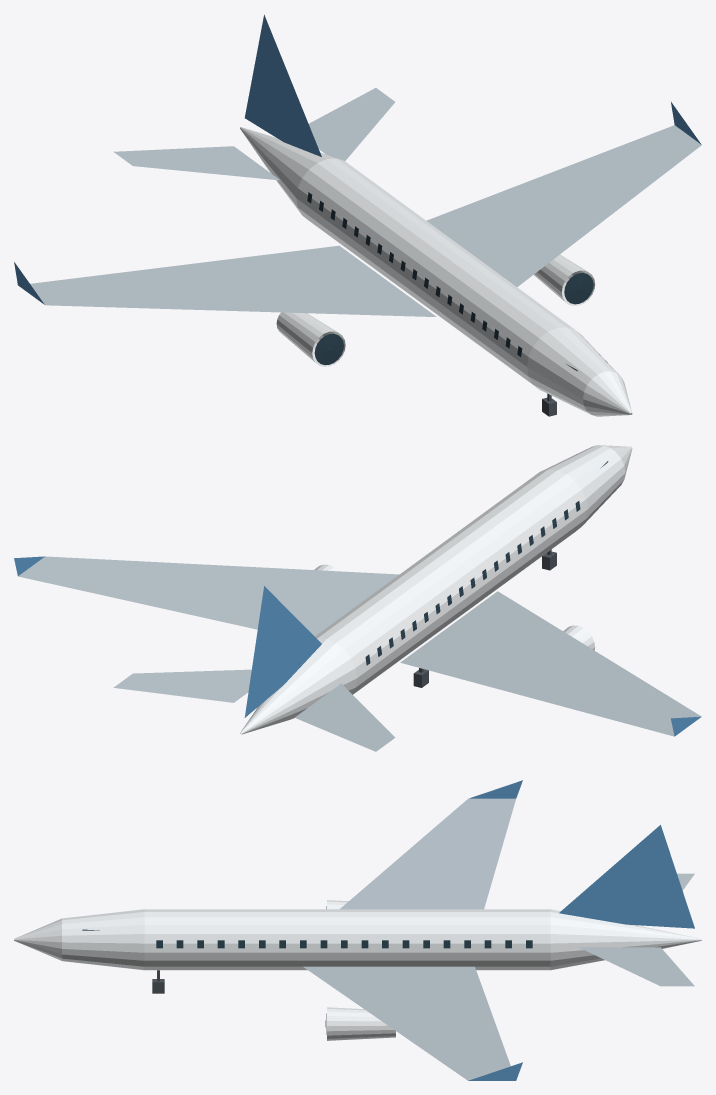
The model's file is a350-UAL.gltf.
3 views of the same model, one above another, from view 1: azimuth 30°, elevation 25°; view 2: azimuth 150°, elevation 25°; view 3: azimuth 270°, elevation 25° (orthographic). The views are drawn at different scales.
Visible parts, largest first — view 1: object 1; view 2: object 1, Gear; view 3: object 1.
Boxes of the visible parts, left/top/right/bottom form: object 1: left=14, top=14, right=701, bottom=416; object 1: left=14, top=445, right=701, bottom=751; Gear: left=413, top=549, right=556, bottom=687; object 1: left=14, top=780, right=701, bottom=1080.
Size of the model in its own units: 65 by 17.98 by 67.
